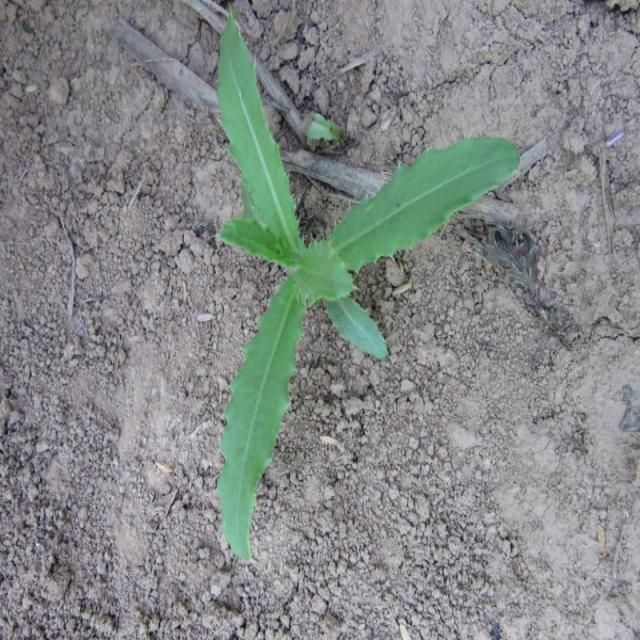cs: (210, 12, 521, 564)
